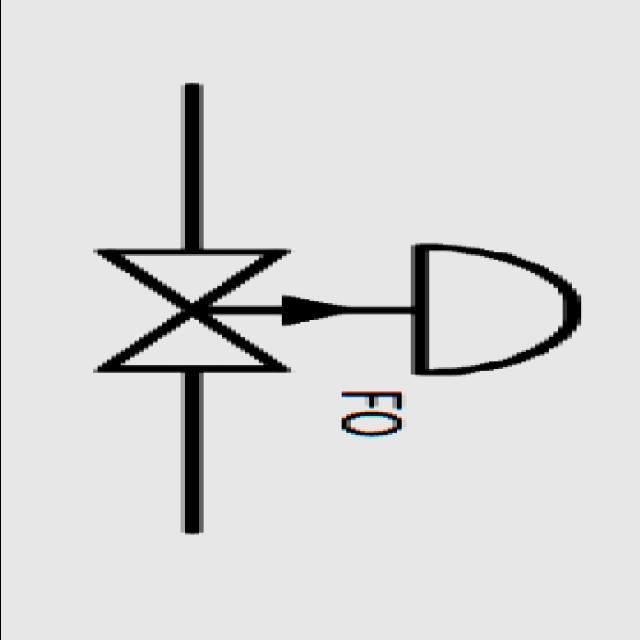Fail Open Safe Position: (72, 226, 606, 382)
